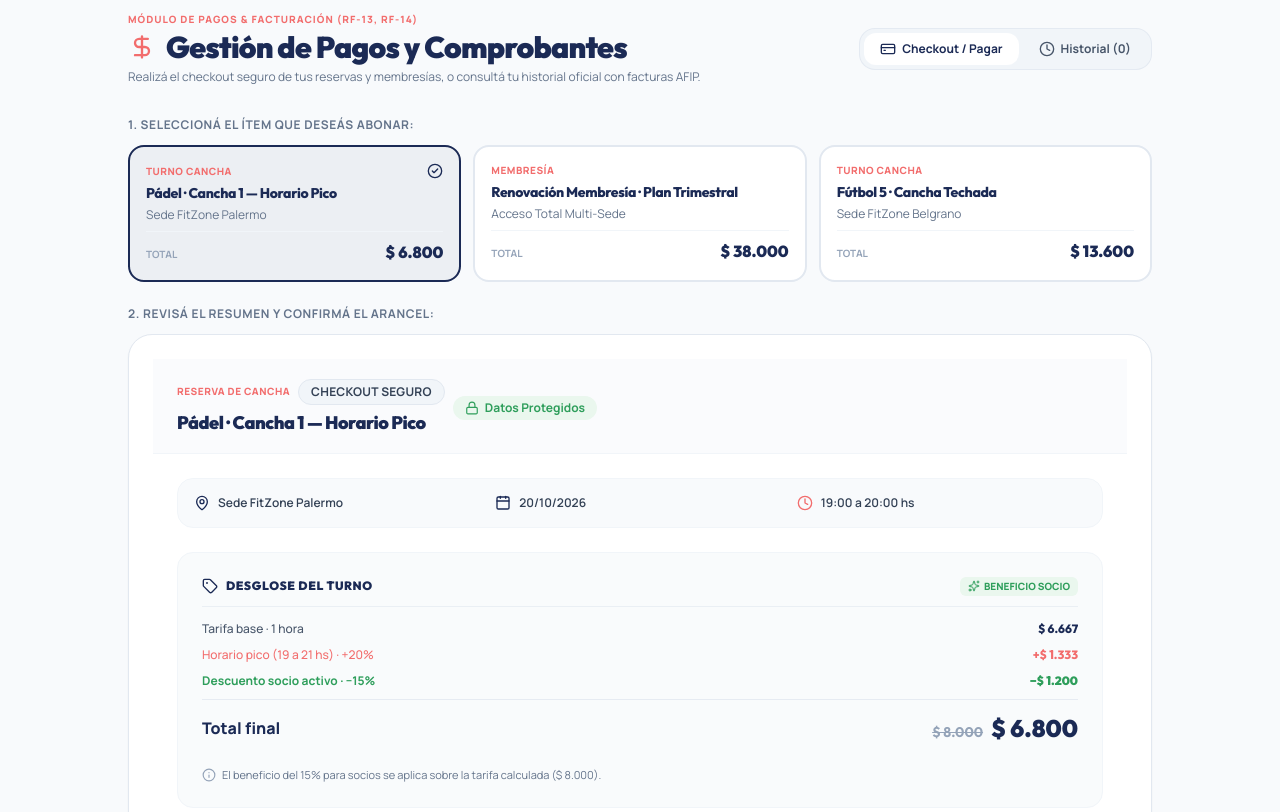
Test: PagosPage (Integración RF-13, RF-14, SCRUM-86) › permite filtrar el historial por REEMBOLSADO correctamente
Click the button "Historial (0)": (1085, 48) x1=1023 y1=32 x2=1147 y2=64
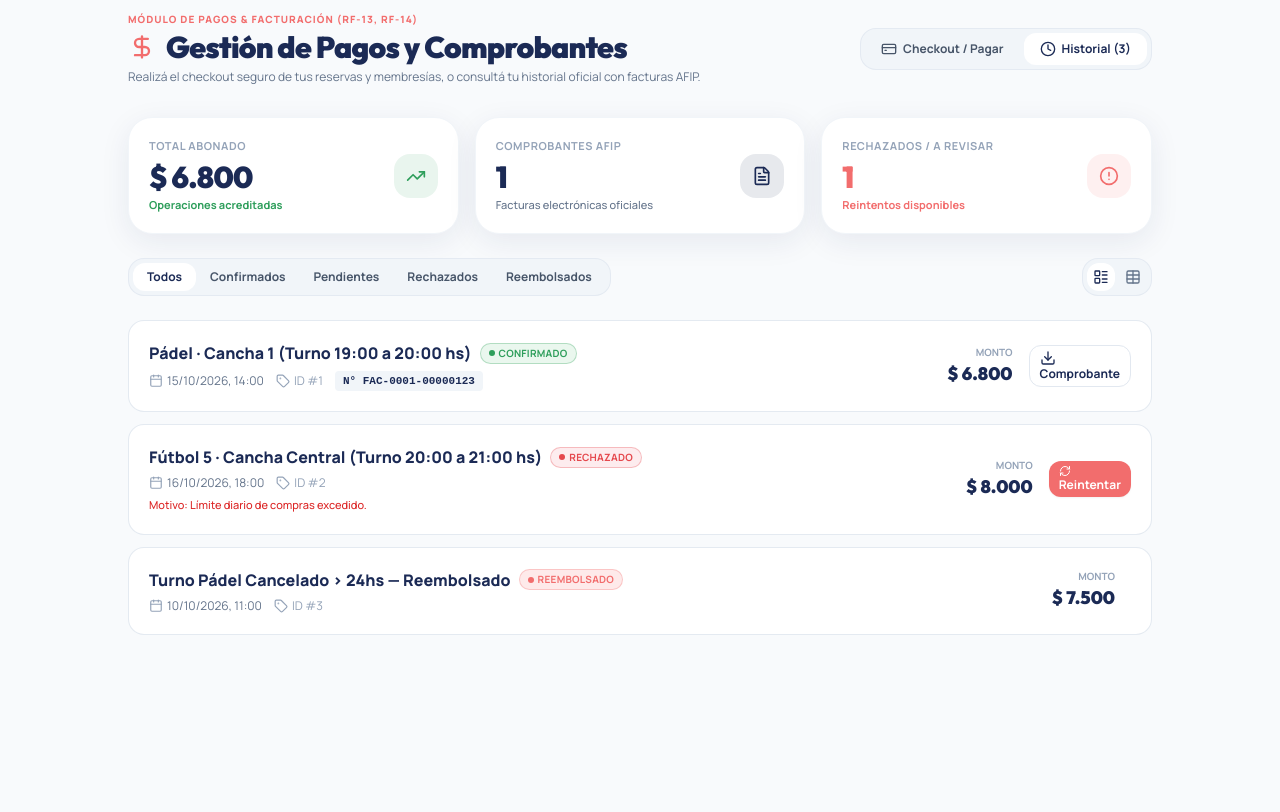
Expected: the button "Reembolsados" is shown
Click the button "Reembolsados": (549, 277) x1=492 y1=263 x2=606 y2=291
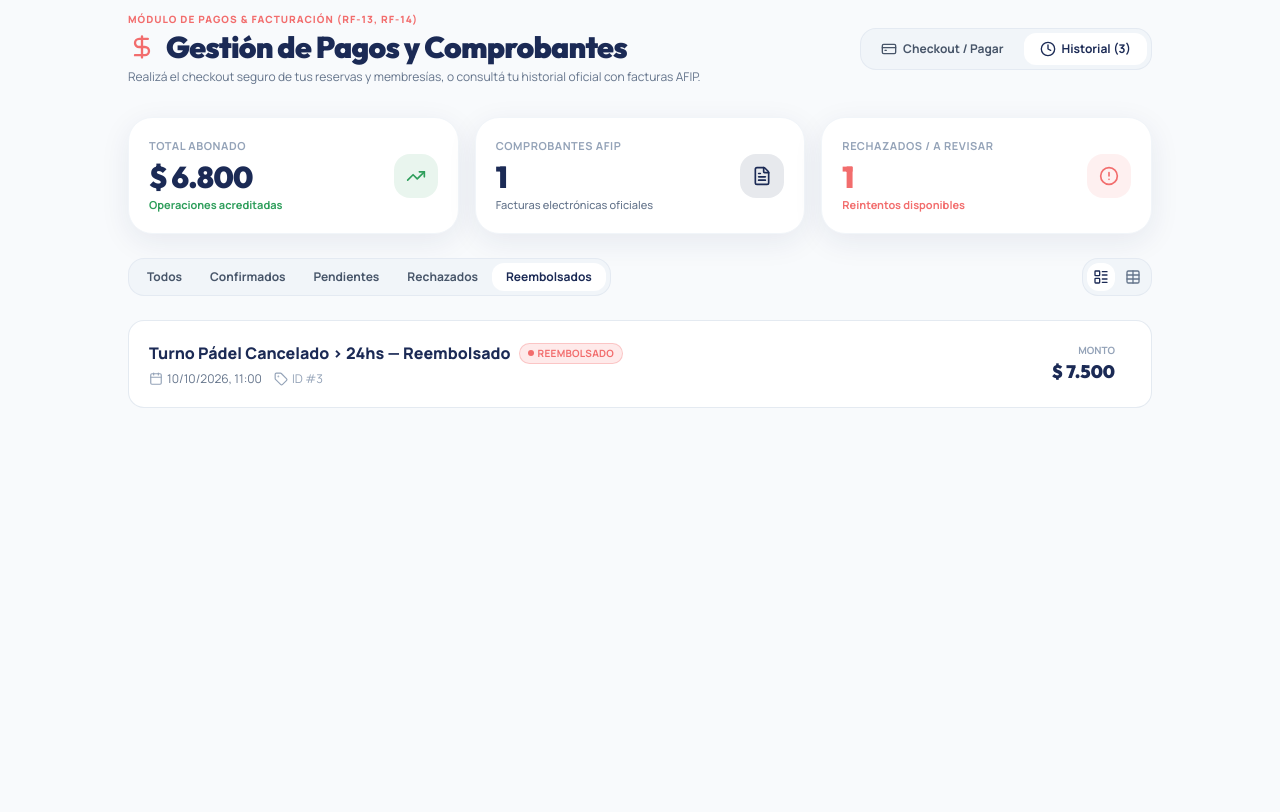
Expected: the text "Turno Pádel Cancelado > 24hs — Reembolsado" is shown, x1=149 y1=341 x2=511 y2=365
Expected: the text "Pádel · Cancha 1 (Turno 19:00 a 20:00 hs)" is gone
